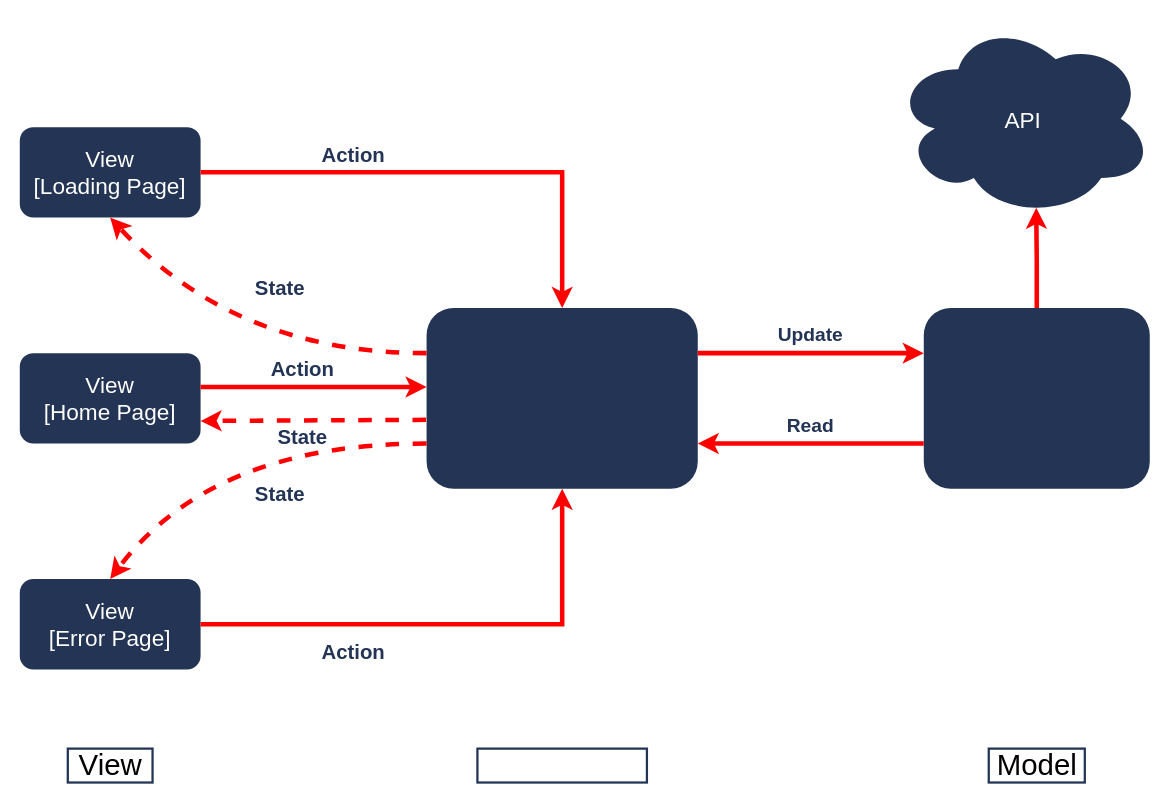
Image size: 1172x802. Some labels were removed from this diagram. The box of each missing label's shape, as (x1, y1, x2, y2) in pixels:
Repository [CurrencyRepository] [RatesRepository]: (923, 307, 1149, 488)
ViewModel: (476, 747, 647, 783)
ViewModel [CurrencyViewModel] (ChangeNotifier): (426, 307, 697, 488)
